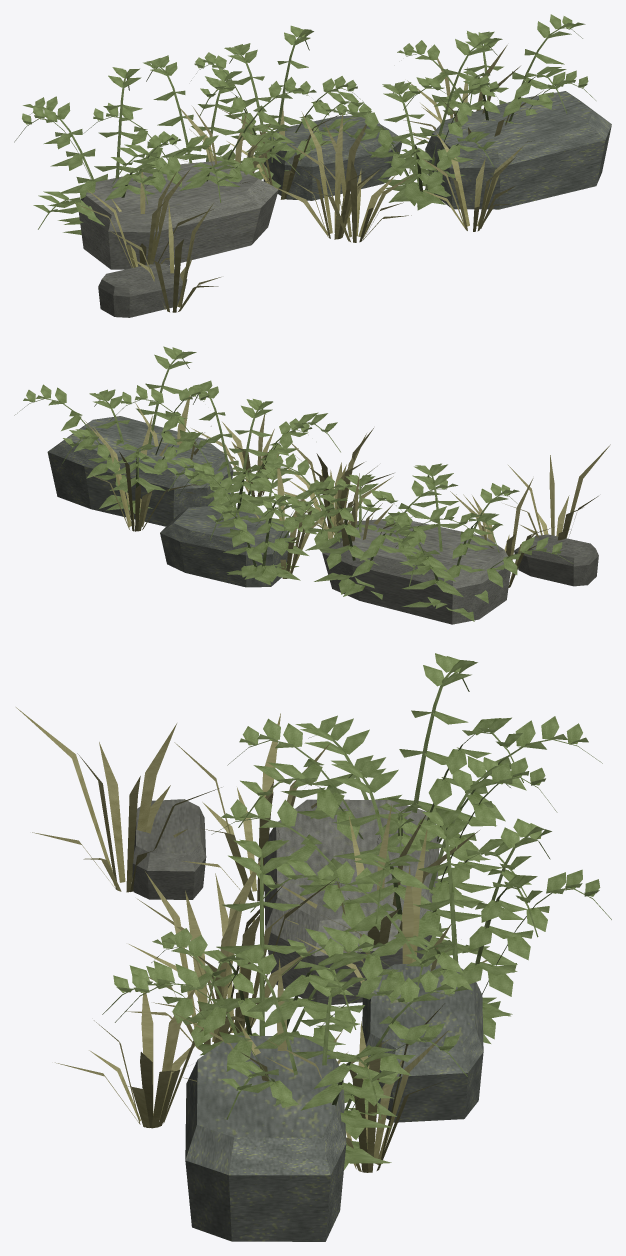
The model's file is bank.glb.
The picture shows the model from 3 angles, top to bottom: view 1: azimuth 30°, elevation 25°; view 2: azimuth 150°, elevation 25°; view 3: azimuth 270°, elevation 25°; orthographic projection. The views are drawn at different scales.
Parts seen in each view (by area): view 1: Merewatch bank; view 2: Merewatch bank; view 3: Merewatch bank.
Boxes of the visible parts, <box> form: Merewatch bank: <box>14,14,611,317</box>; Merewatch bank: <box>14,346,610,624</box>; Merewatch bank: <box>16,653,611,1241</box>.
Size of the model in its own units: 2.07 by 0.4781 by 1.2.
Materials: 1 (1 with a texture image).
